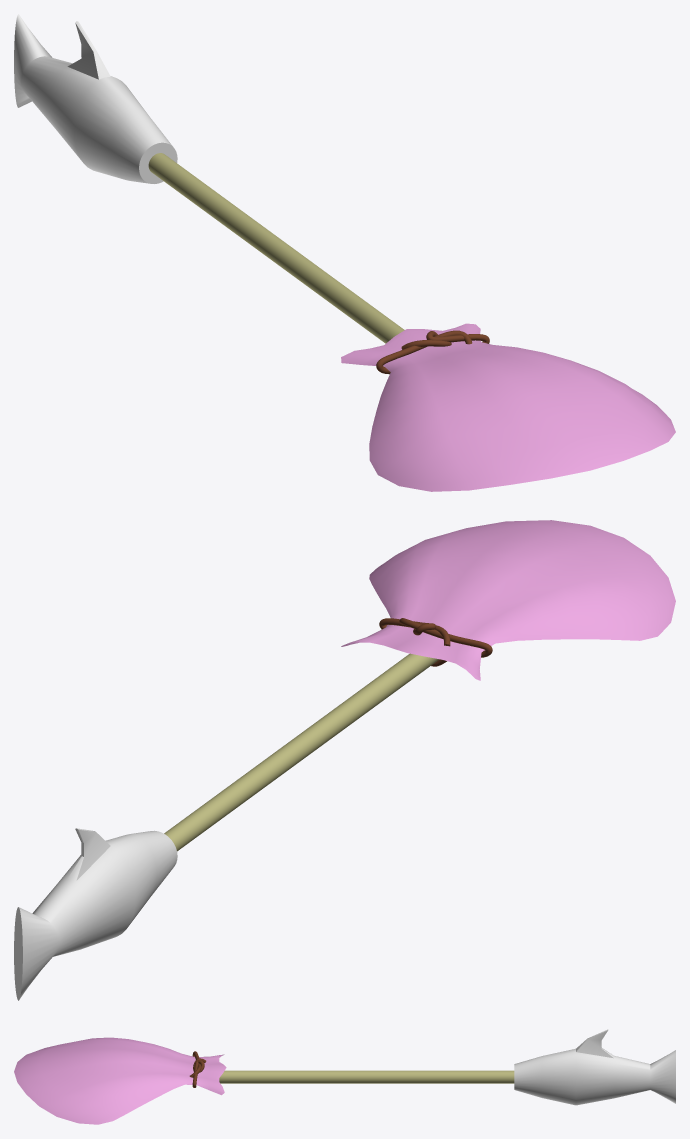
File: espatula.fbx
The picture shows the model from 3 angles, top to bottom: view 1: azimuth 30°, elevation 25°; view 2: azimuth 150°, elevation 25°; view 3: azimuth 270°, elevation 25°; orthographic projection. The views are drawn at different scales.
Parts seen in each view (by area): view 1: Nudo; view 2: Nudo; view 3: Nudo.
Part boxes in pixels (box(x1,y1,x2,y2)): Nudo: box(14, 14, 675, 491); Nudo: box(14, 520, 675, 1000); Nudo: box(14, 1029, 675, 1124).
Size of the model in its own units: 148 by 65.64 by 525.
